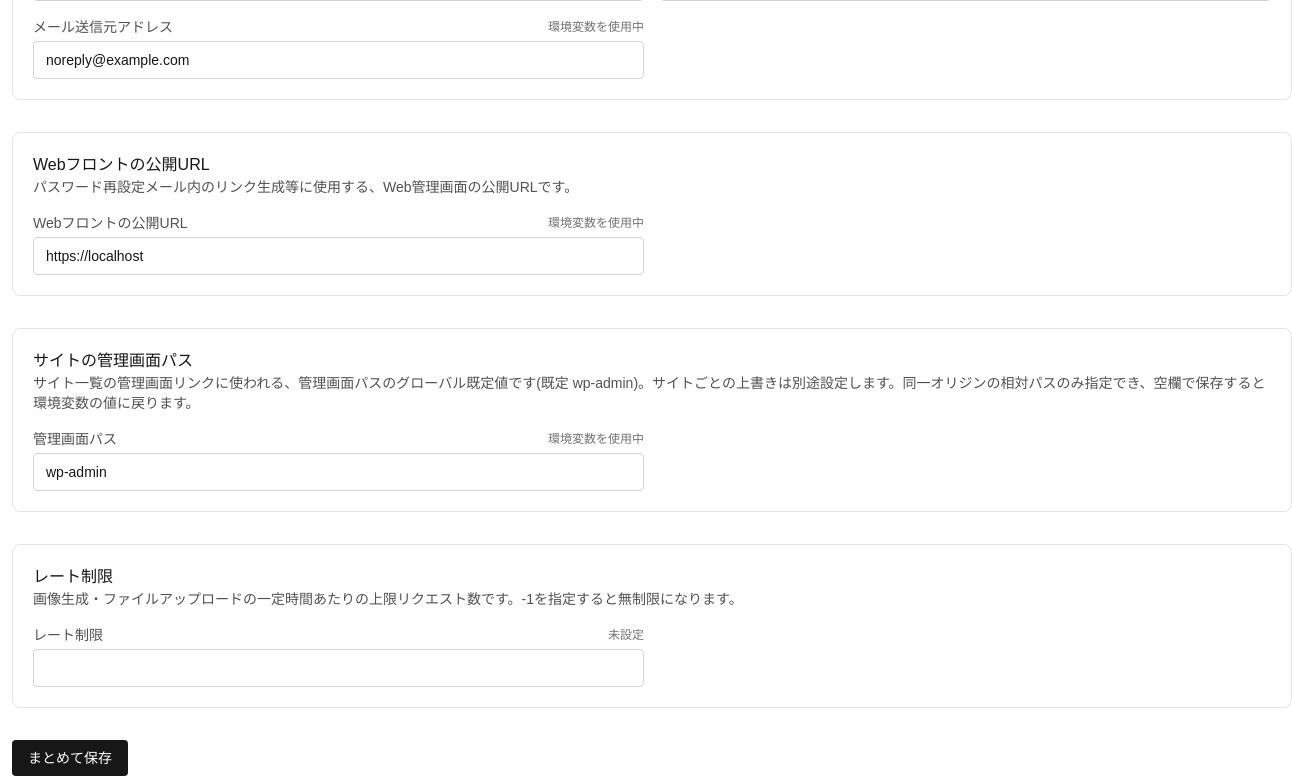
Test case: AppSettingsPanel › 保存に成功すると成功メッセージを表示する
(page scrolled)
Click the button "まとめて保存": (70, 758) [12,740,128,775]
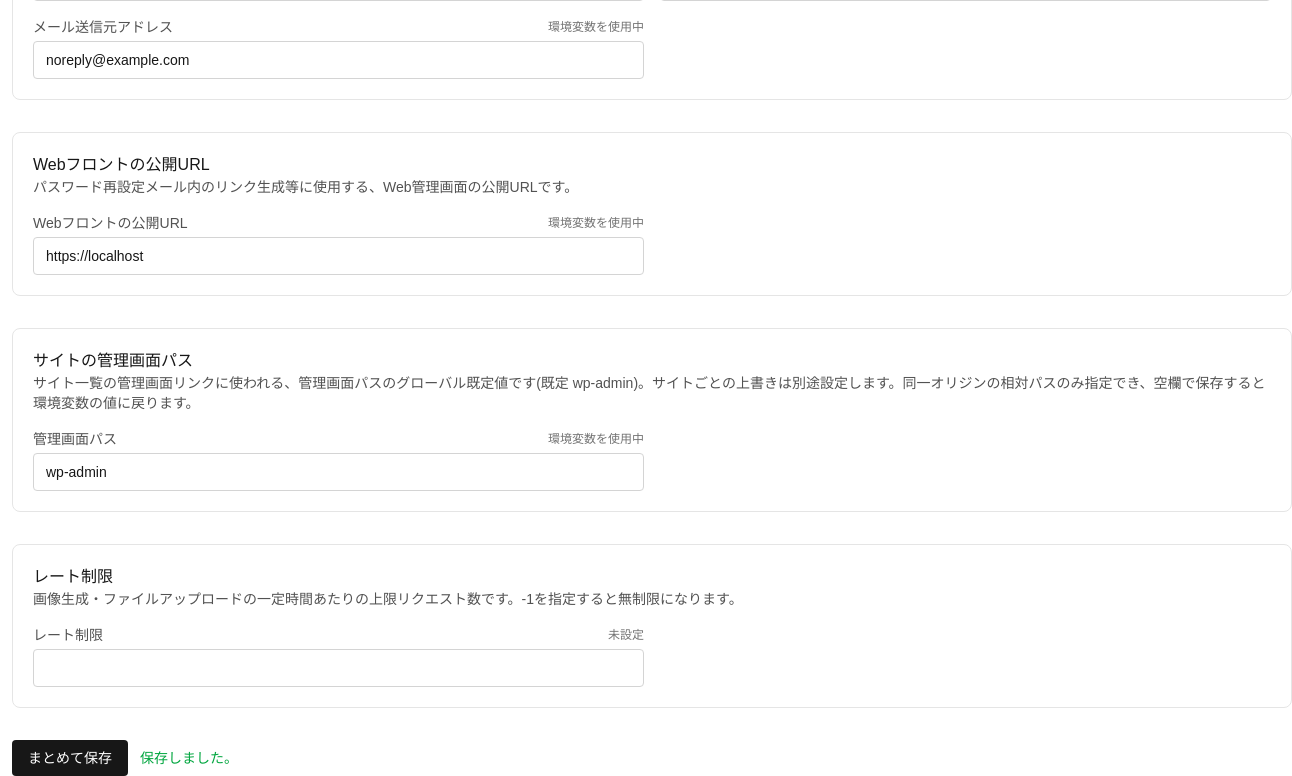
Result: the text "保存しました。" is shown at [140,748,238,768]
